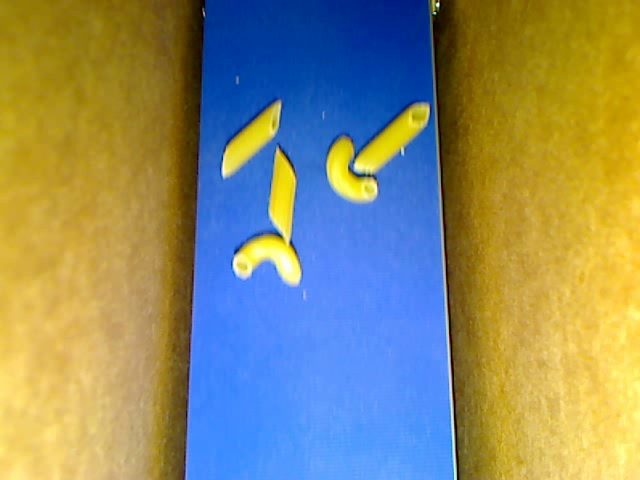elbow: (232, 232, 301, 286), (326, 135, 378, 204)
penne: (352, 102, 430, 173), (220, 100, 280, 179), (267, 146, 297, 244)
